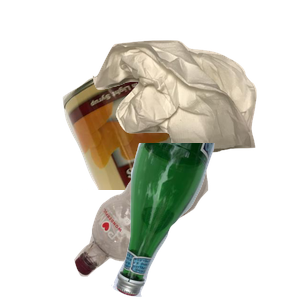glass: (109, 143, 300, 300)
metal: (60, 58, 300, 238)
plastic: (72, 142, 273, 300)
trash: (90, 38, 300, 183)
